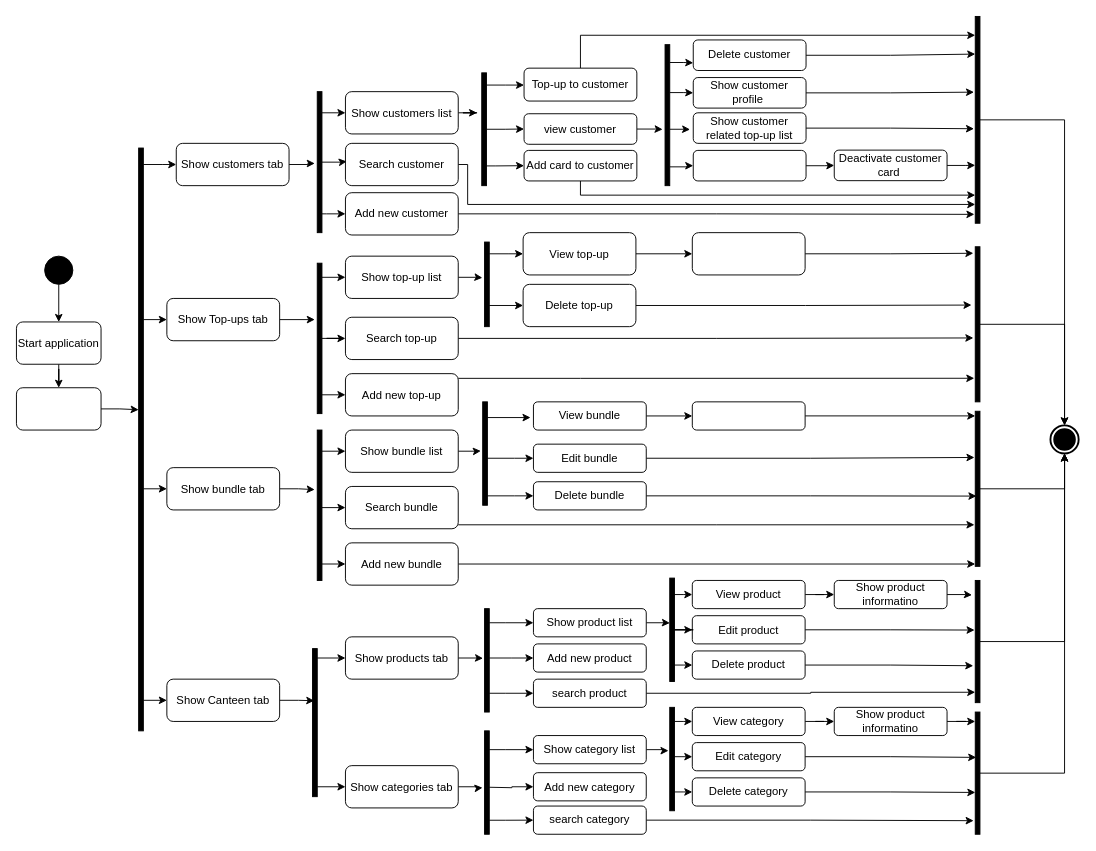
Some shapes in this 1096 by 851 pixel diagram are drawn without their labels. Each missing label, with the centre of its shape:
"Login" goes at pixel 58 408.
"Show bundle information" goes at pixel 748 415.
"Show customer related card number" goes at pixel 749 165.
"Show top-up information" goes at pixel 748 253.
